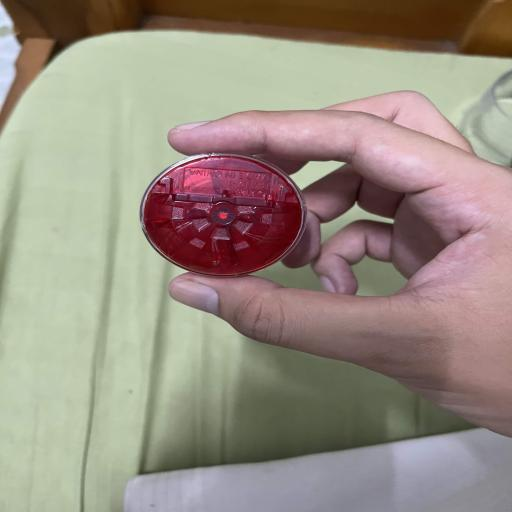capsem: (140, 153, 306, 276)
